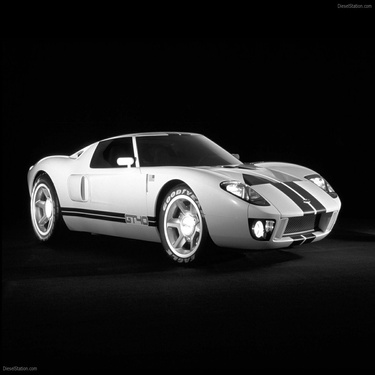car: (29, 124, 348, 255)
